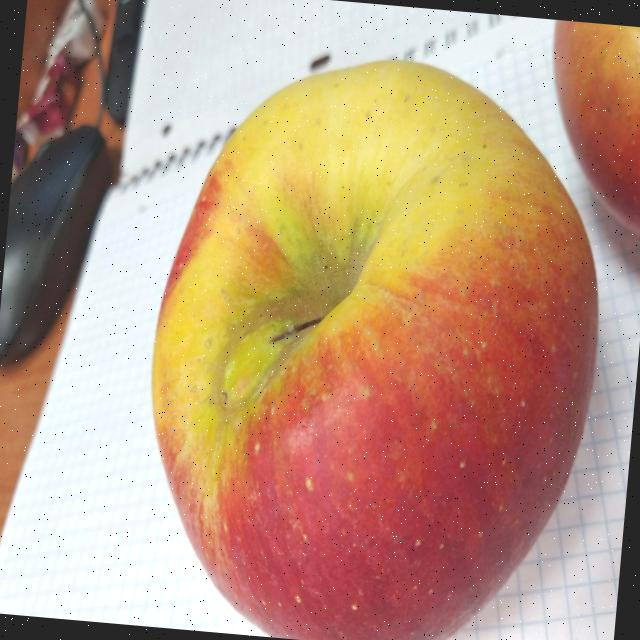apple: (71, 3, 640, 640), (516, 18, 640, 281)
